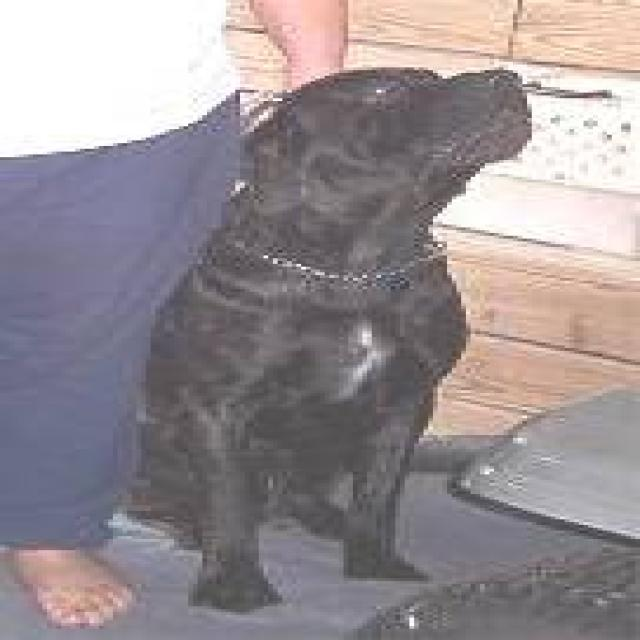dog: (122, 64, 532, 612)
